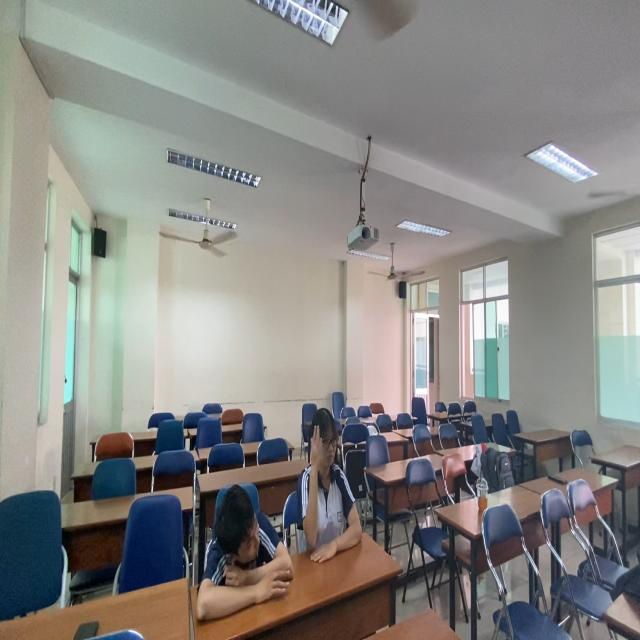raise_hand: (302, 408, 366, 567)
sleep: (189, 484, 289, 624)
